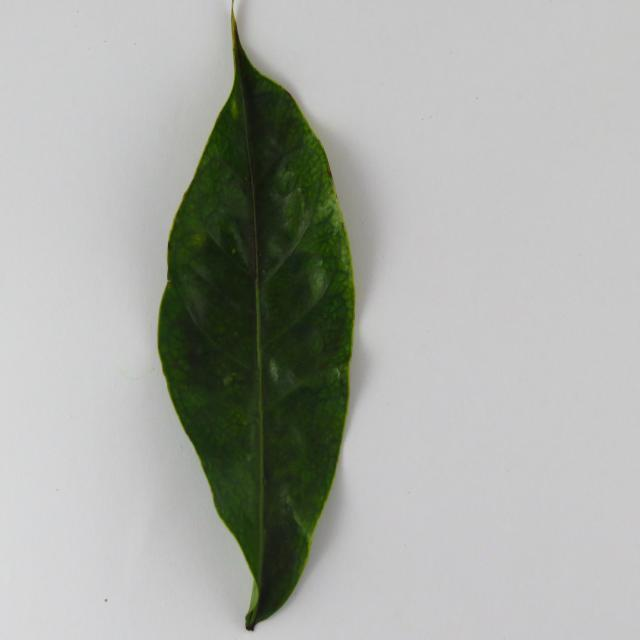DeficienciaNutricional-Manganeso: (158, 13, 355, 630)
